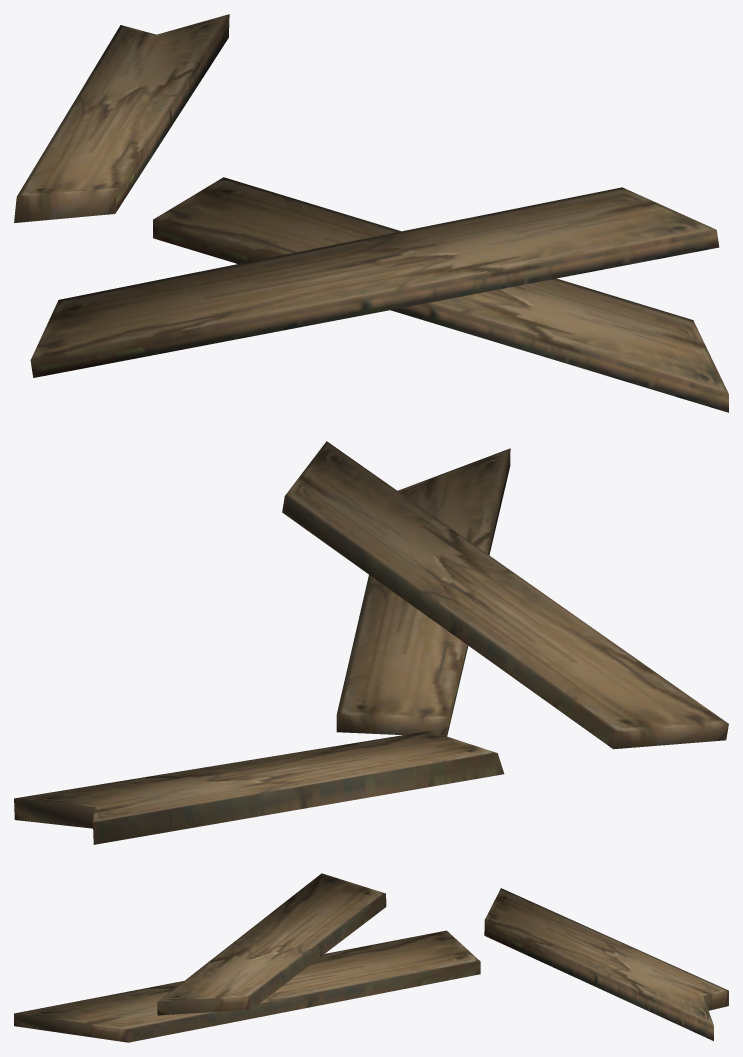
File: S_Build_Cbcl094.FBX
3 renders of one model, top to bottom at view 1: azimuth 30°, elevation 25°; view 2: azimuth 150°, elevation 25°; view 3: azimuth 270°, elevation 25°, orthographic. The views are drawn at different scales.
Parts seen in each view (by area): view 1: S_Build_Cbcl094; view 2: S_Build_Cbcl094; view 3: S_Build_Cbcl094.
Boxes of the visible parts, x1,y1,x2,y2 form: S_Build_Cbcl094: [14, 14, 728, 412]; S_Build_Cbcl094: [14, 441, 728, 844]; S_Build_Cbcl094: [14, 873, 728, 1042].
Bounding box in the file's own units: 247 × 402 × 42.17.
1 material, 1 textured.
